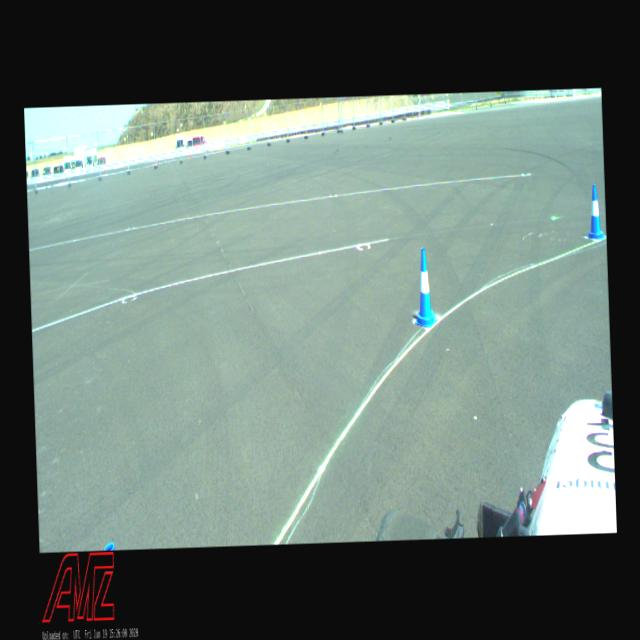blue_cone: (412, 246, 438, 328), (586, 183, 604, 240)
